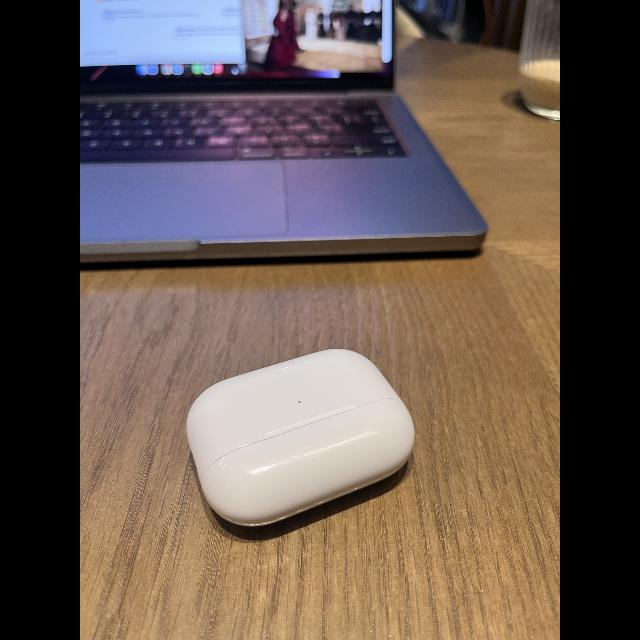AirPods Pro: (182, 343, 420, 539)
